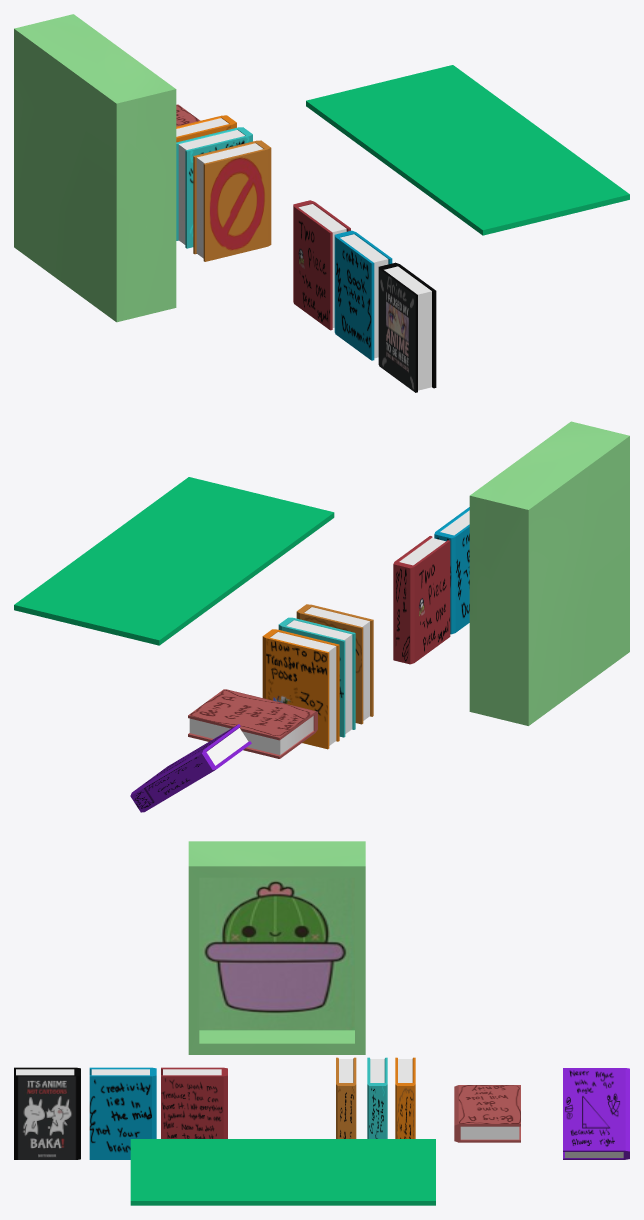
File: Books & Stuff 1.fbx
The picture shows the model from 3 angles, top to bottom: view 1: azimuth 30°, elevation 25°; view 2: azimuth 150°, elevation 25°; view 3: azimuth 270°, elevation 25°; orthographic projection. The views are drawn at different scales.
Parts seen in each view (by area): view 1: Photoframe, WelcomeMat.001, Book, Book.004, Book.008, Book.006, Book.002, Book.001; view 2: Photoframe, WelcomeMat.001, Book.001, Book.006, Book.005, Book.007, Book, Book.002, Book.008; view 3: Photoframe, WelcomeMat.001, Book.004, Book.007, Book.008, Book.006, Book.005, Book.001, Book.002, Book.
Boxes of the visible parts, <box> form: Photoframe: <box>14,14,176,322</box>; WelcomeMat.001: <box>306,65,629,235</box>; Book: <box>193,140,271,261</box>; Book.004: <box>378,262,436,392</box>; Book.008: <box>334,230,392,360</box>; Book.006: <box>293,200,350,330</box>; Book.002: <box>176,127,252,248</box>; Book.001: <box>176,115,236,142</box>; Photoframe: <box>469,421,629,725</box>; WelcomeMat.001: <box>14,477,334,645</box>; Book.001: <box>262,629,339,749</box>; Book.006: <box>393,536,450,664</box>; Book.005: <box>188,689,317,758</box>; Book.007: <box>130,724,251,812</box>; Book: <box>296,604,373,724</box>; Book.002: <box>278,617,355,737</box>; Book.008: <box>434,507,469,634</box>; Photoframe: <box>188,841,365,1054</box>; WelcomeMat.001: <box>130,1139,435,1205</box>; Book.004: <box>14,1067,80,1159</box>; Book.007: <box>563,1068,629,1159</box>; Book.008: <box>89,1067,156,1159</box>; Book.006: <box>161,1067,227,1138</box>; Book.005: <box>454,1085,520,1142</box>; Book.001: <box>395,1057,415,1138</box>; Book.002: <box>367,1057,387,1138</box>; Book: <box>336,1057,356,1138</box>.
Bounding box in the file's own units: 996 × 523 × 1285.
